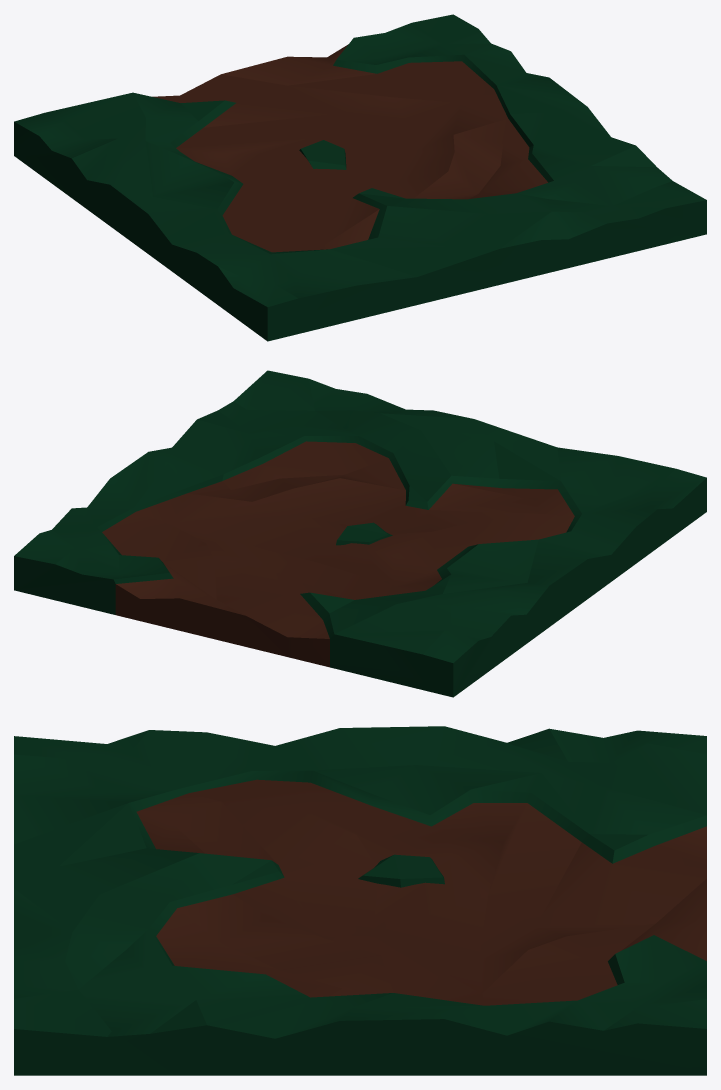
File: Ground_Path_Ending_B.fbx
3 views of the same model, one above another, from view 1: azimuth 30°, elevation 25°; view 2: azimuth 150°, elevation 25°; view 3: azimuth 270°, elevation 25° (orthographic). The views are drawn at different scales.
Visible parts, largest first — view 1: Ground_Path_Ending_B; view 2: Ground_Path_Ending_B; view 3: Ground_Path_Ending_B.
Part boxes in pixels (x1=…): Ground_Path_Ending_B: x1=14, y1=14, x2=706, y2=341; Ground_Path_Ending_B: x1=14, y1=370, x2=706, y2=697; Ground_Path_Ending_B: x1=14, y1=726, x2=706, y2=1075.
Bounding box in the file's own units: 147 × 14.26 × 147.
